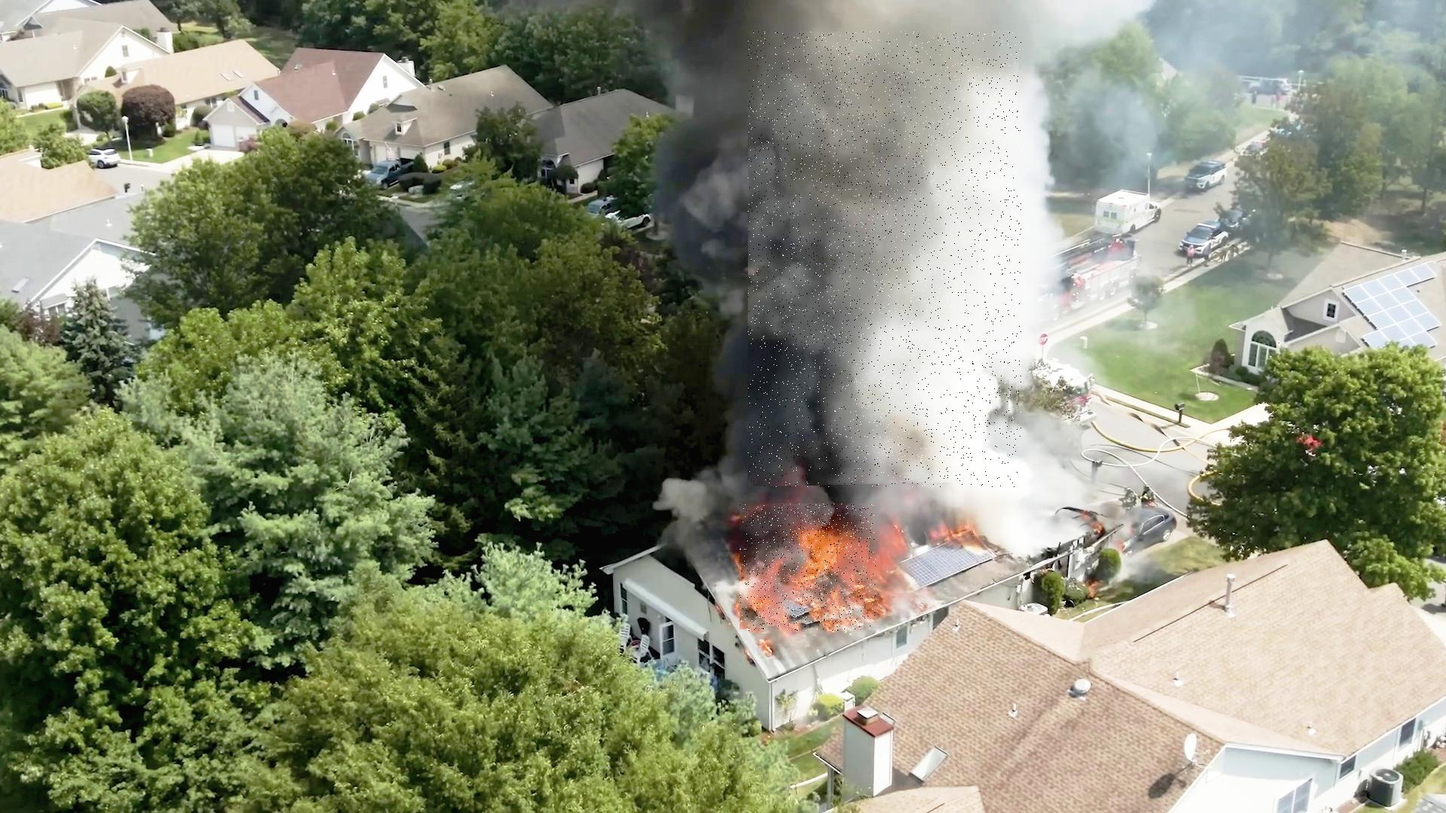fire: (740, 504, 876, 631)
smoke: (748, 32, 1022, 487)
